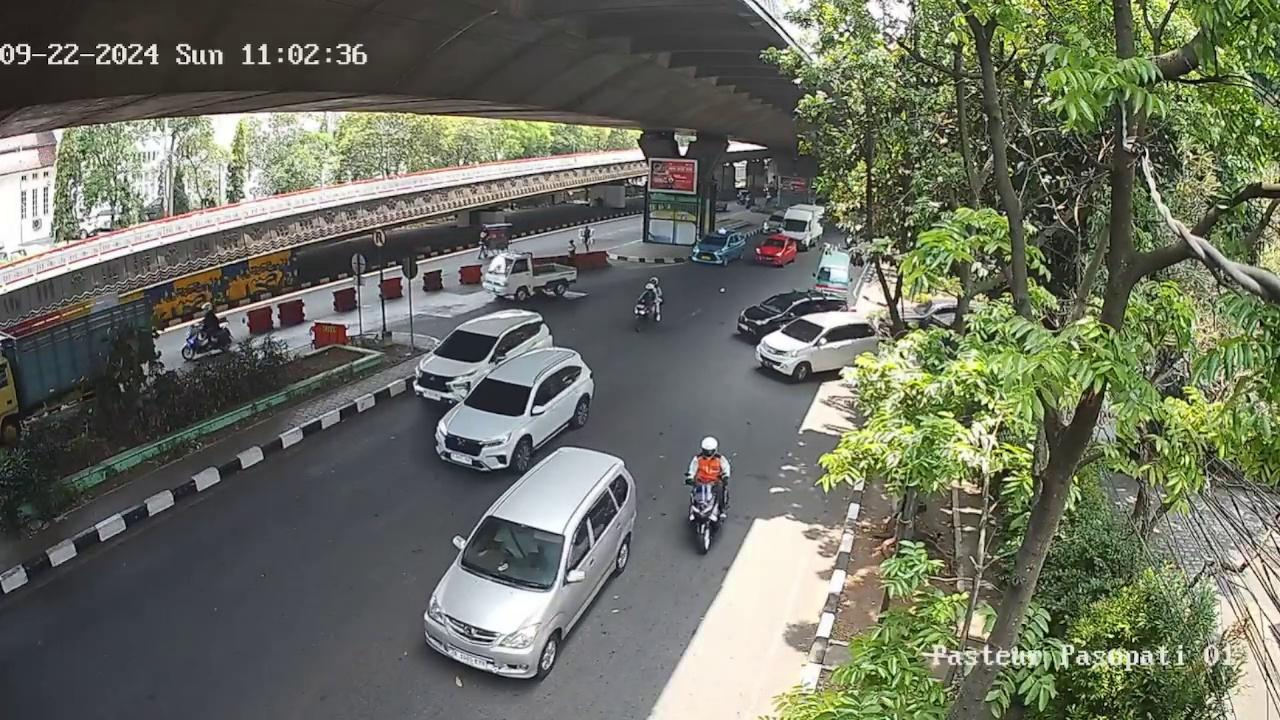pakai: (493, 526, 535, 571)
windshield: (466, 519, 566, 589), (465, 378, 531, 419), (434, 330, 496, 358), (776, 320, 825, 342)
